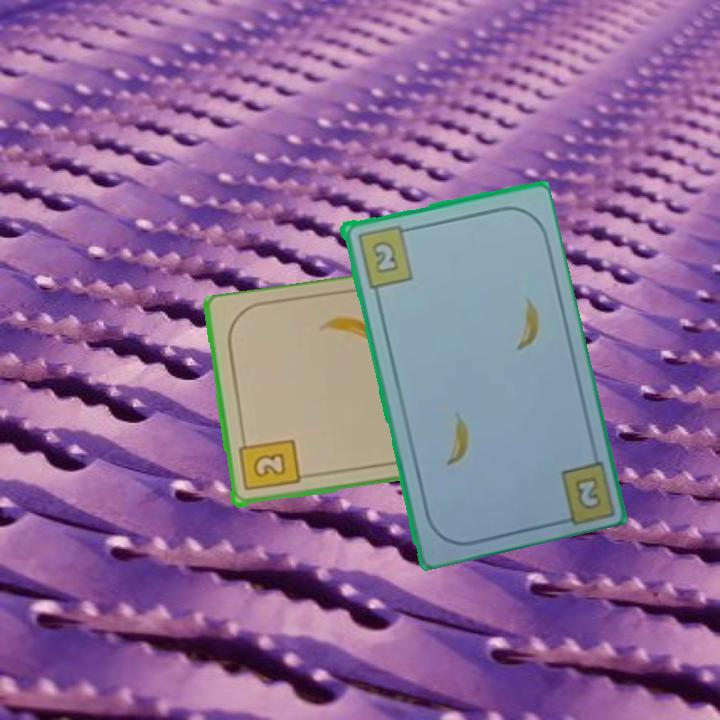2b: (353, 221, 415, 291), (235, 433, 302, 494), (574, 476, 600, 509)
